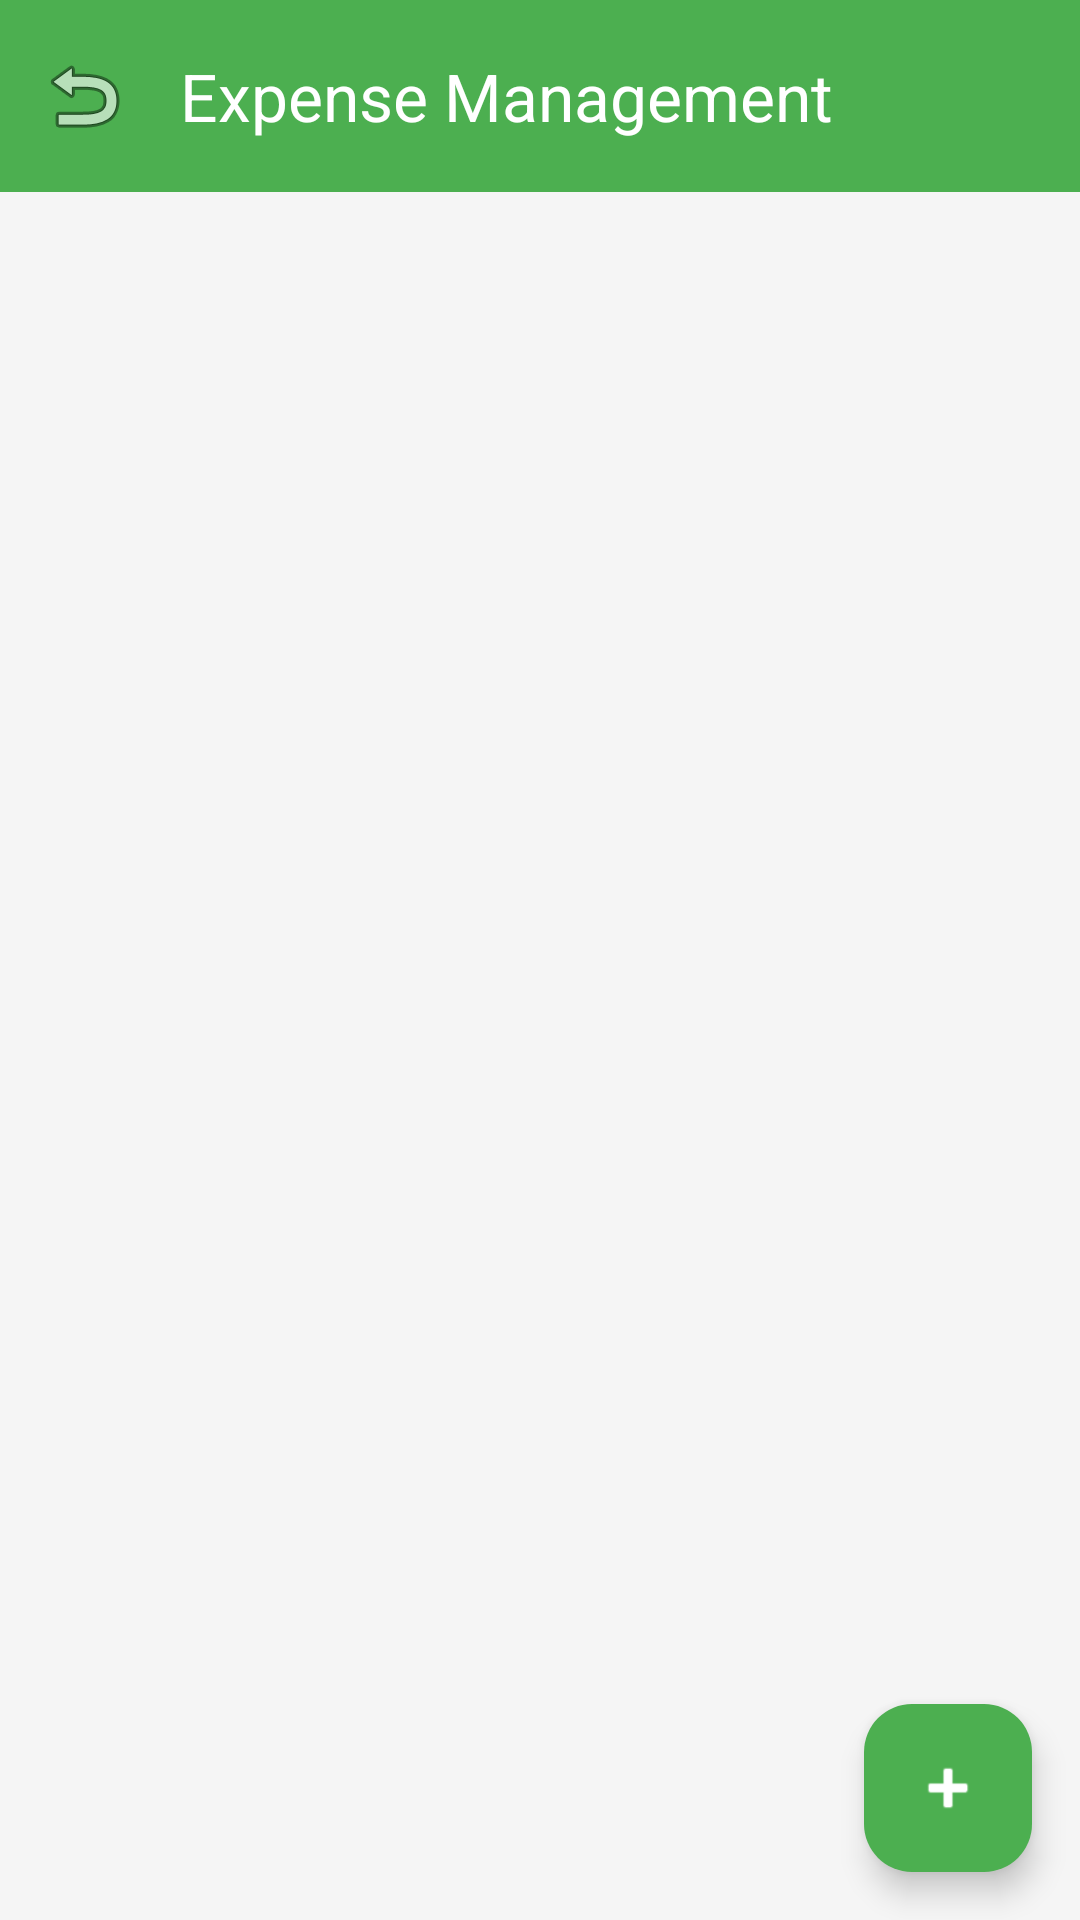

Named icons in this screenshot (1080 × 1920) and their bounding boxes, (x1, y1, x2, y2):
Add Expense: (864, 1704, 1032, 1872)
